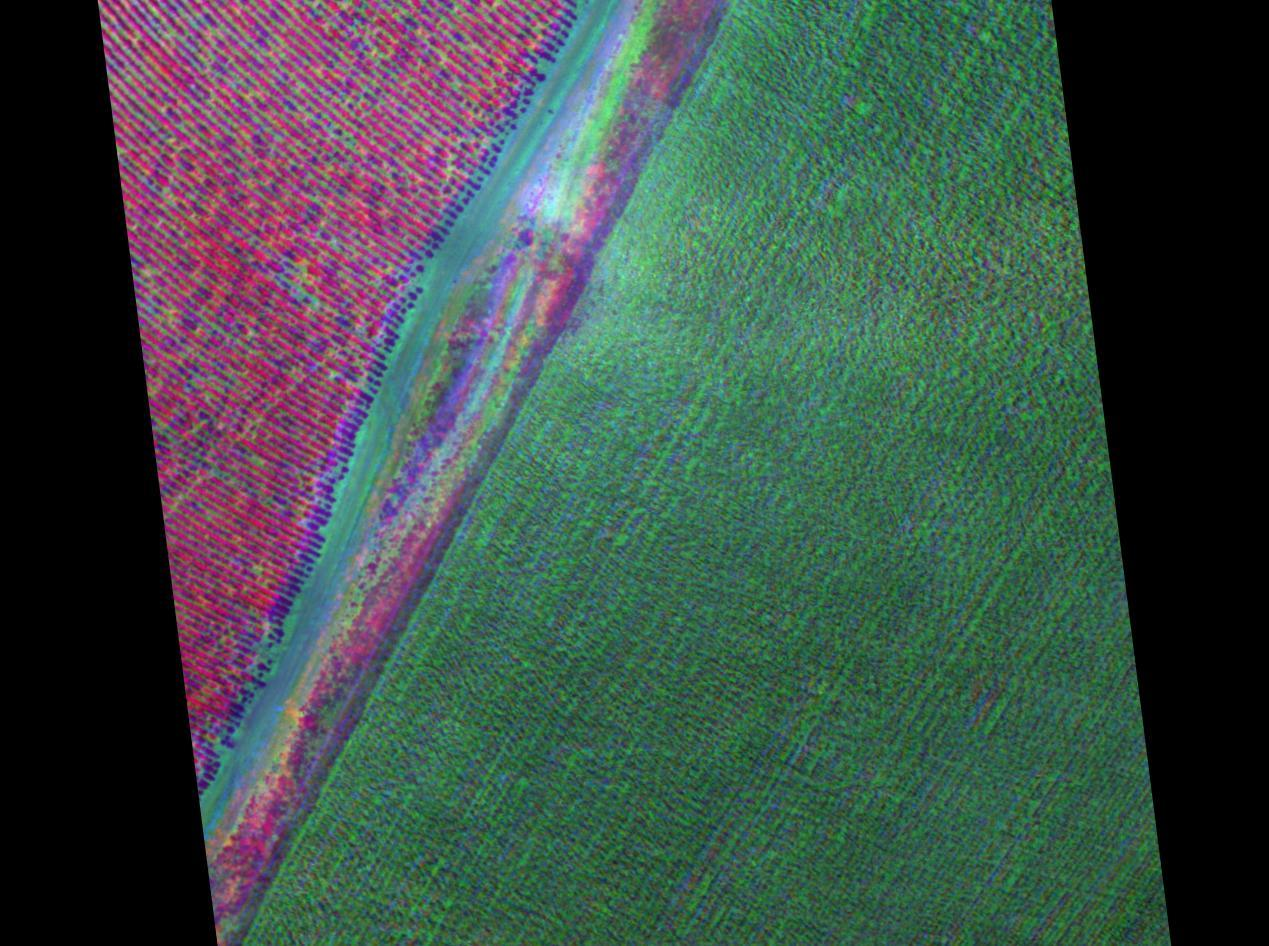dc: (123, 270, 206, 369), (298, 0, 419, 67), (123, 0, 206, 76), (263, 250, 330, 322), (423, 113, 493, 180)
